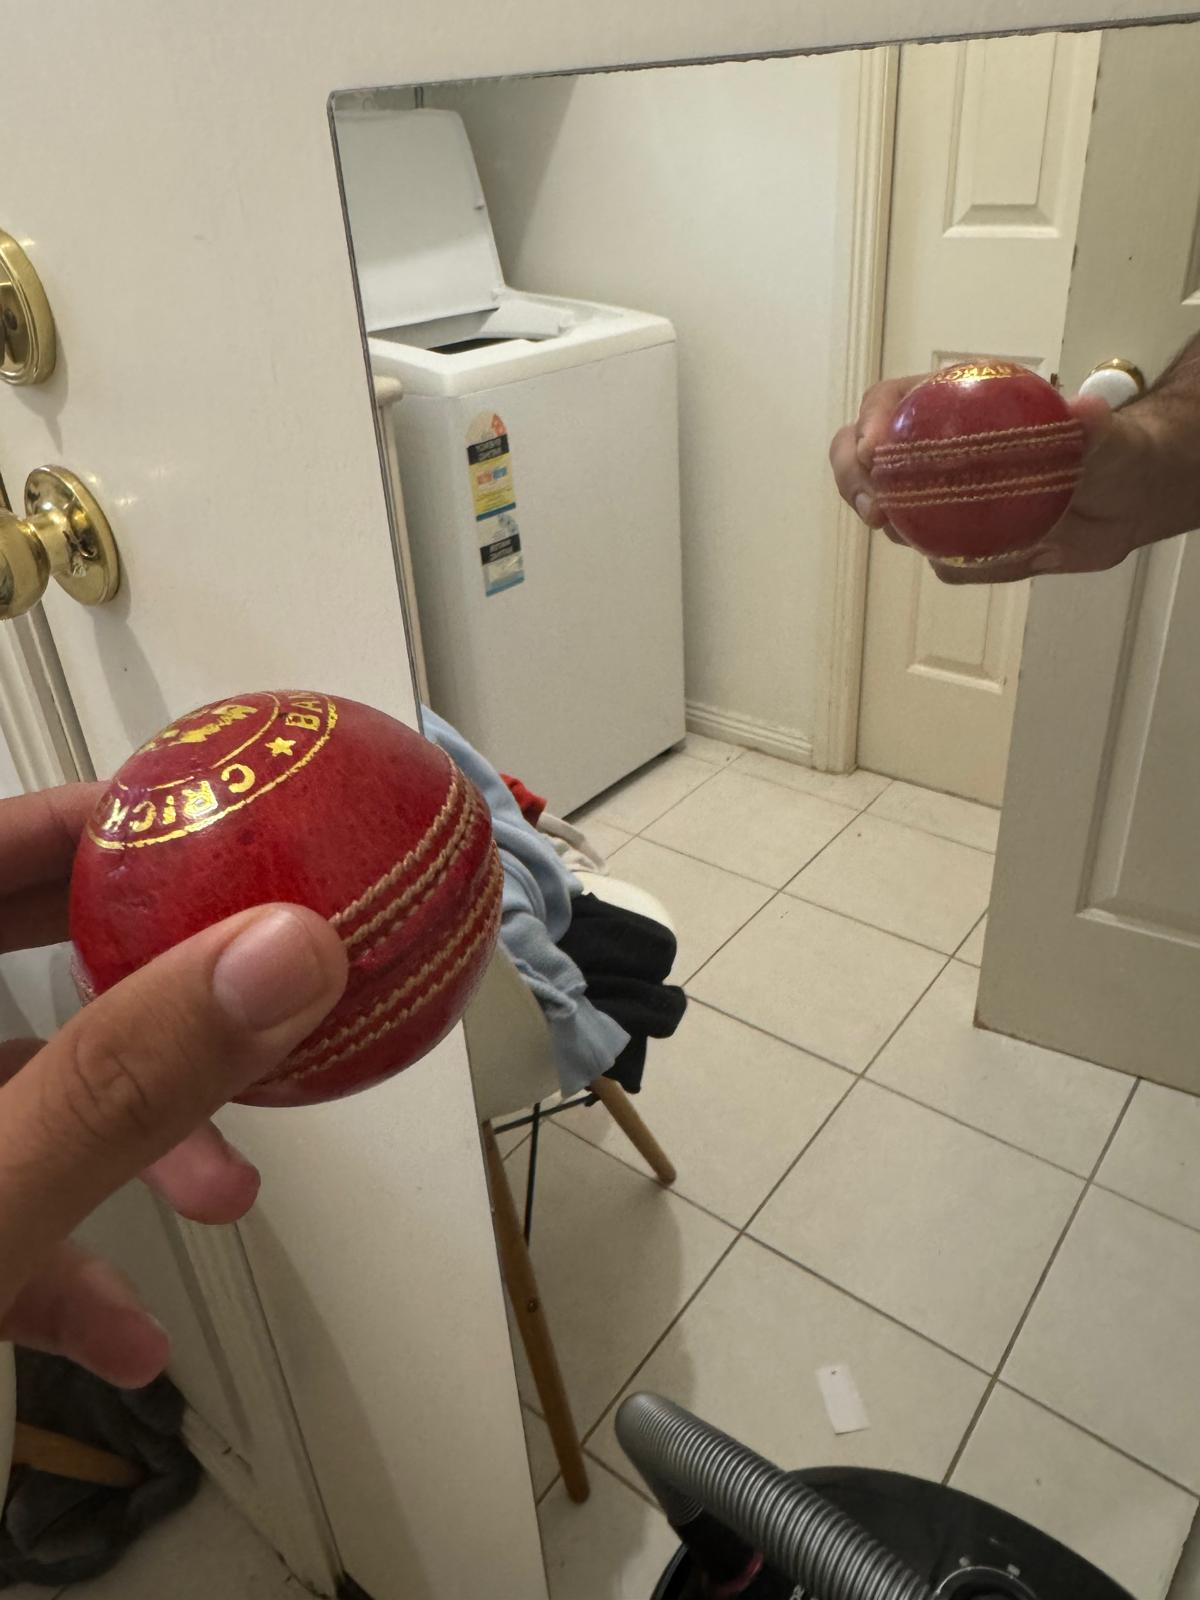Red_Ball: (47, 677, 508, 1095), (864, 345, 1092, 569)
